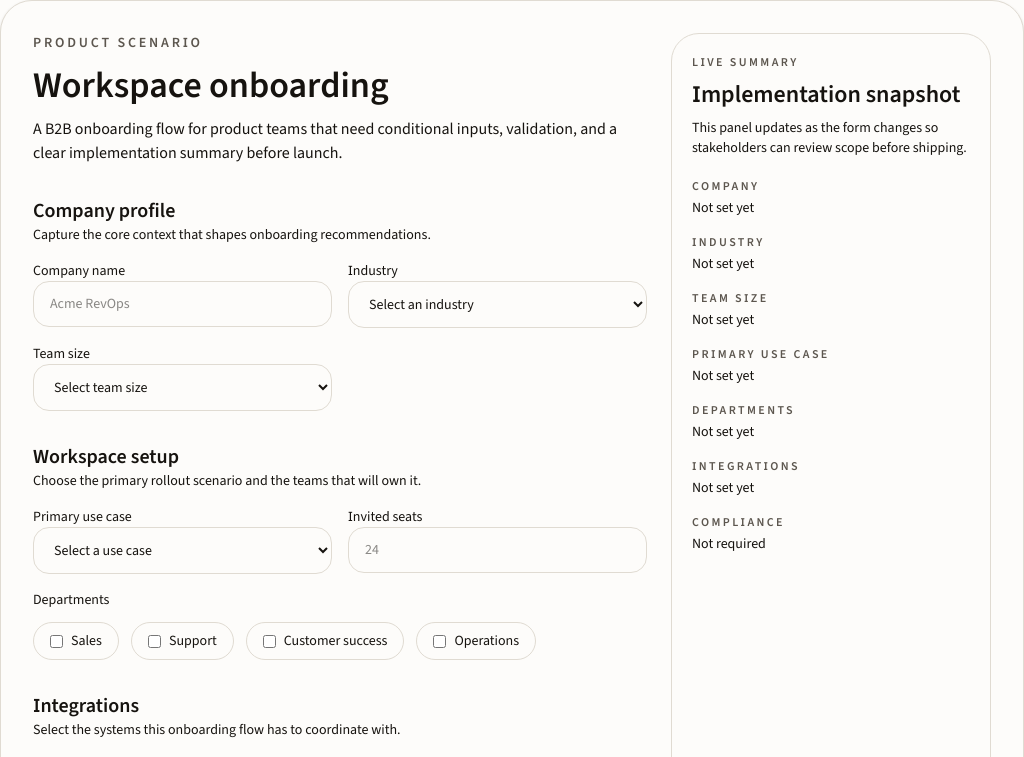
Scenario: WorkspaceOnboardingDemo › reveals contextual fields when the use case changes
This screenshot has width=1024, height=757.
Select "Customer portal" in the dropdown labelled "Primary use case" at coordinates (182, 550), box 33,527 -> 332,574
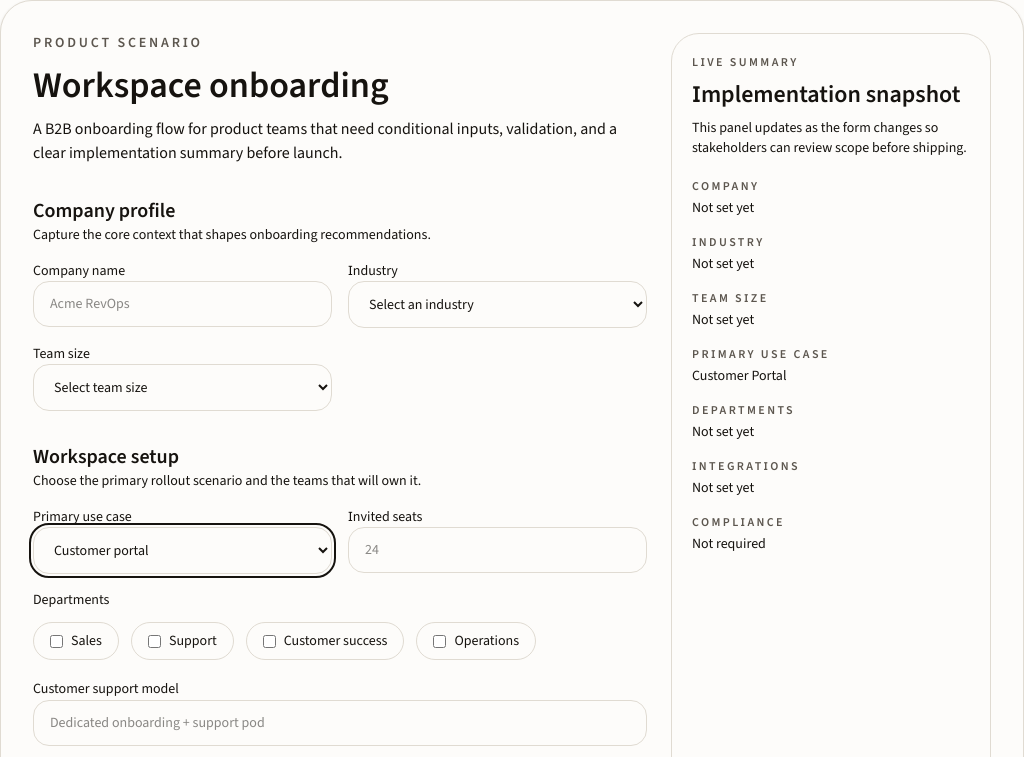
Expected: the field labelled "Customer support model" is shown, 33,700 -> 647,746
